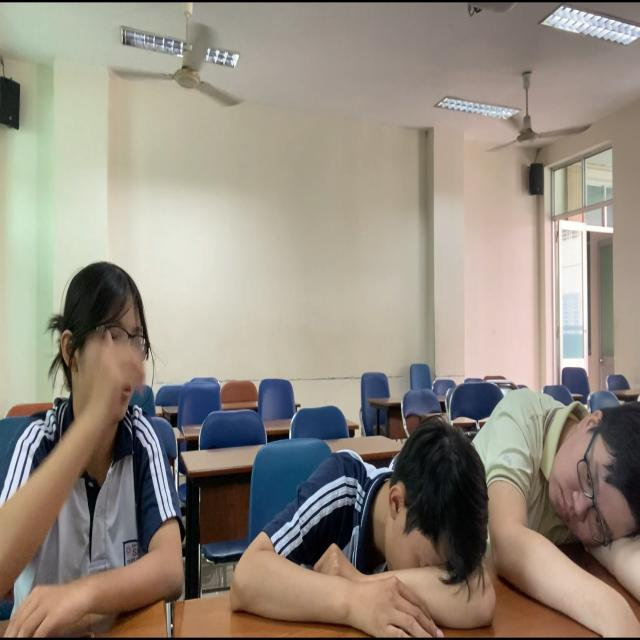raise_hand: (1, 248, 188, 640)
sleep: (238, 409, 490, 638), (473, 369, 640, 608)
